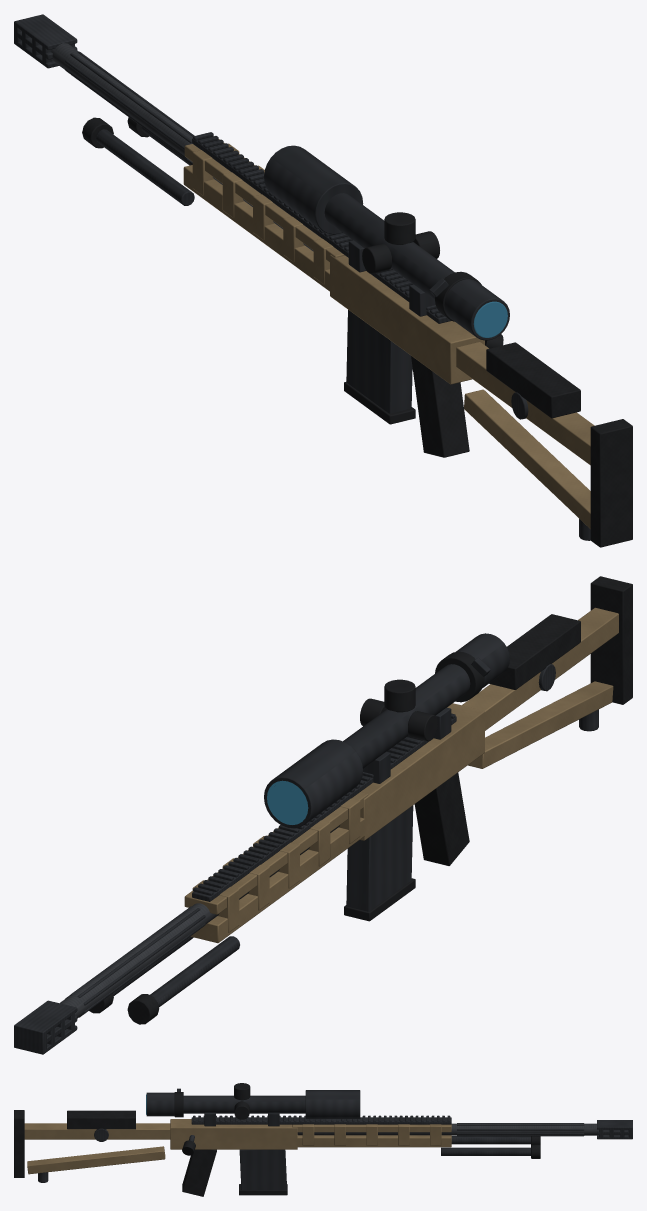
The model's file is WPN_Sniper_M2010.glb.
3 views of the same model, one above another, from view 1: azimuth 30°, elevation 25°; view 2: azimuth 150°, elevation 25°; view 3: azimuth 270°, elevation 25° (orthographic). The views are drawn at different scales.
Visible parts, largest first — view 1: WPN_M2010_Chassis, WPN_M2010_Scope8x, WPN_M2010_Magazine; view 2: WPN_M2010_Chassis, WPN_M2010_Scope8x, WPN_M2010_Magazine; view 3: WPN_M2010_Chassis, WPN_M2010_Scope8x, WPN_M2010_Magazine, WPN_M2010_Bolt.
Part boxes in pixels (x1,y1,x2,y2): WPN_M2010_Chassis: [14, 14, 632, 547]; WPN_M2010_Scope8x: [264, 145, 509, 340]; WPN_M2010_Magazine: [344, 310, 415, 424]; WPN_M2010_Chassis: [14, 576, 632, 1054]; WPN_M2010_Scope8x: [264, 633, 509, 828]; WPN_M2010_Magazine: [344, 805, 415, 921]; WPN_M2010_Chassis: [14, 1110, 632, 1196]; WPN_M2010_Scope8x: [146, 1083, 360, 1126]; WPN_M2010_Magazine: [239, 1149, 287, 1195]; WPN_M2010_Bolt: [182, 1135, 195, 1155].
Bounding box in the file's own units: 0.0982 × 0.2235 × 1.17.
Materials: 5 (5 with a texture image).
